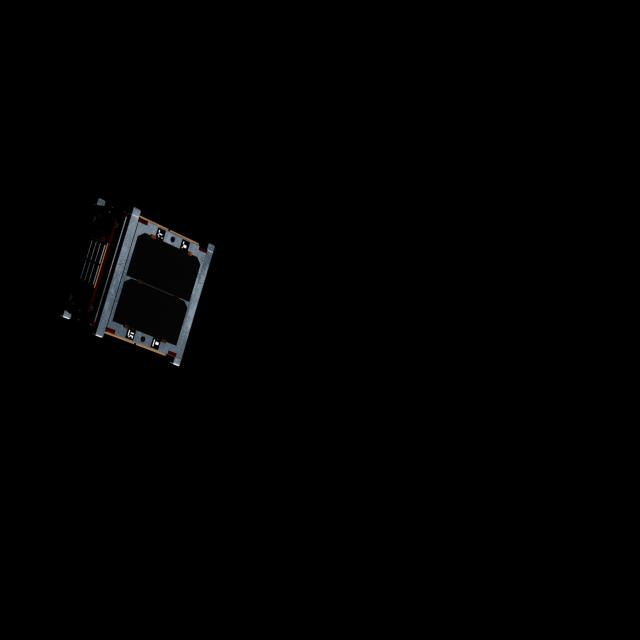satellite: (60, 197, 217, 380)
